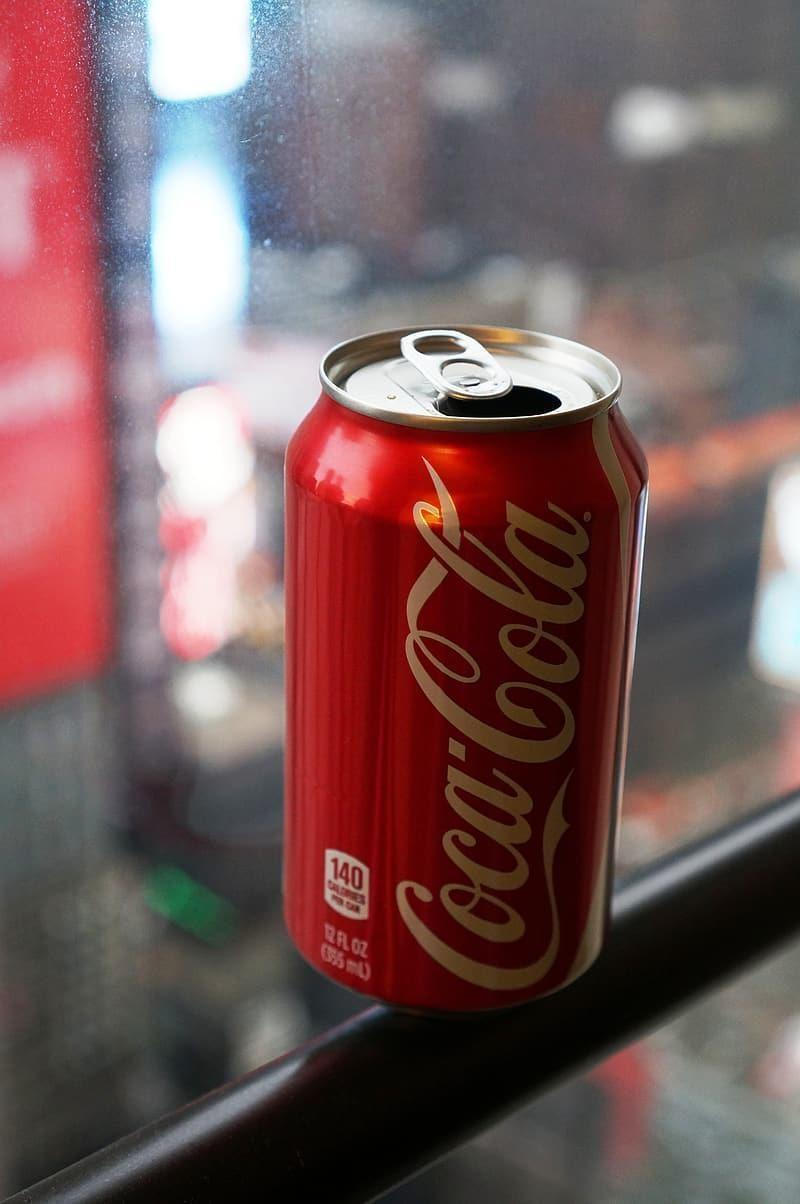tin can: (280, 319, 647, 1020)
